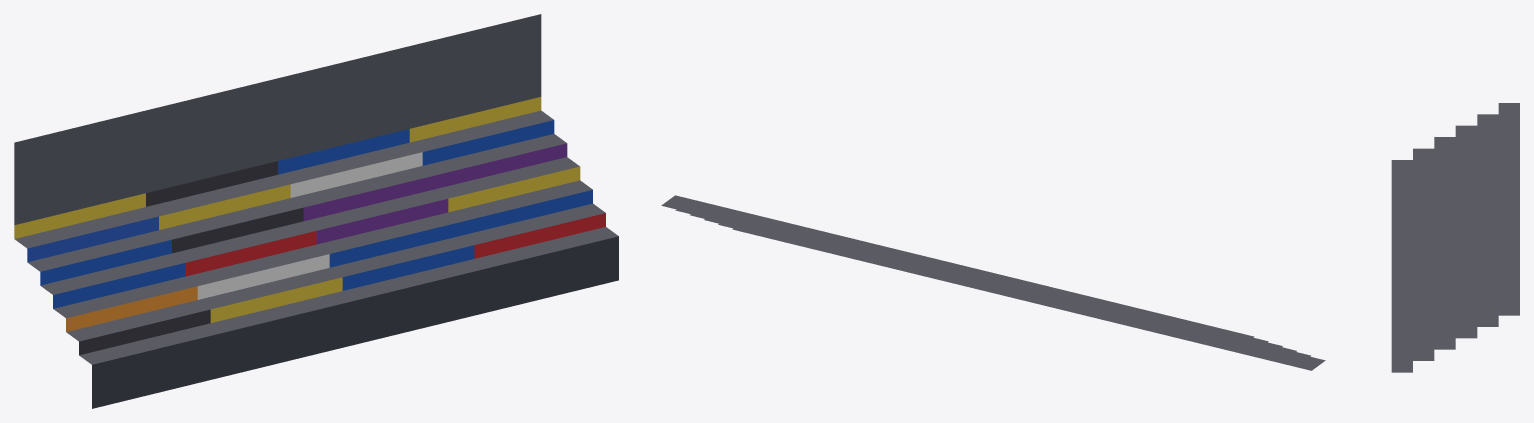
Rendered from stand_end_b.glb.
3 renders of one model, left to right at view 1: azimuth 30°, elevation 25°; view 2: azimuth 150°, elevation 25°; view 3: azimuth 270°, elevation 25°, orthographic. The views are drawn at different scales.
Parts seen in each view (by area): view 1: stand_end_b; view 2: stand_end_b; view 3: stand_end_b.
Part boxes in pixels (x1,y1,x2,y2): stand_end_b: (14, 14, 618, 408); stand_end_b: (661, 195, 1325, 370); stand_end_b: (1391, 103, 1519, 372).
Bounding box in the file's own units: 20 × 8 × 6.
